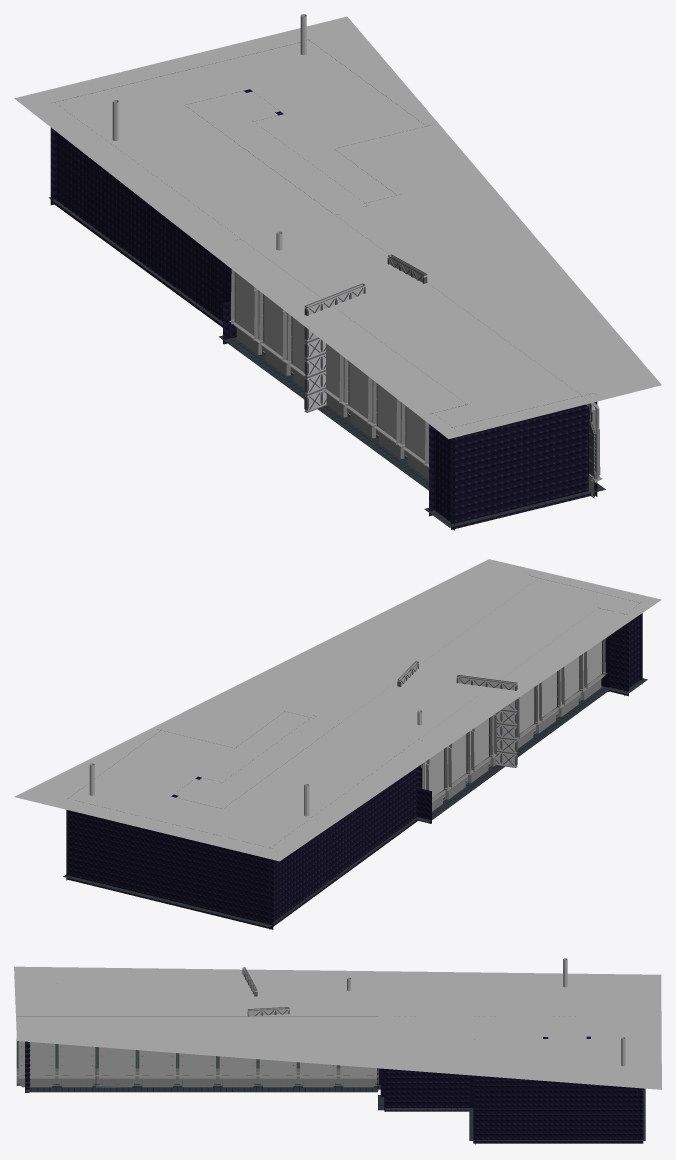
Rendered from Stage5.fbx.
3 views of the same model, one above another, from view 1: azimuth 30°, elevation 25°; view 2: azimuth 150°, elevation 25°; view 3: azimuth 270°, elevation 25° (orthographic). The views are drawn at different scales.
Parts seen in each view (by area): view 1: Top, Middle.539, Down; view 2: Top, Middle.539, Down; view 3: Top, Middle.539, Down.
Boxes of the visible parts, x1,y1,x2,y2 form: Top: (14,16,661,439); Middle.539: (50,14,602,530); Down: (49,197,605,527); Top: (14,559,661,861); Middle.539: (66,575,642,929); Down: (63,678,647,927); Top: (14,966,661,1089); Middle.539: (16,958,643,1144); Down: (25,1084,645,1140).
Bounding box in the file's own units: 36830 × 13954 × 81874.
